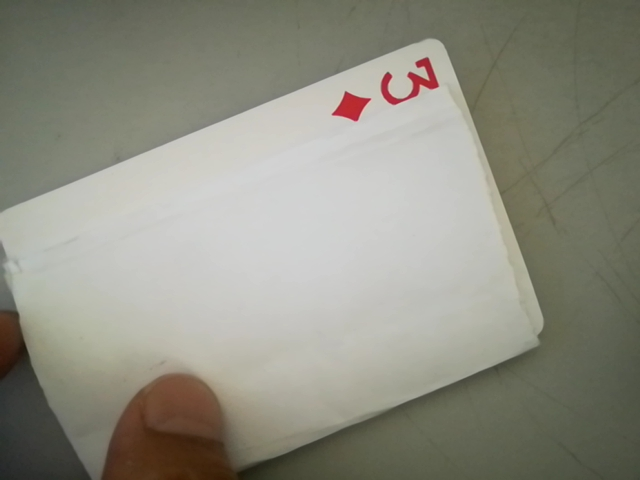fk 3: (330, 53, 446, 122)
